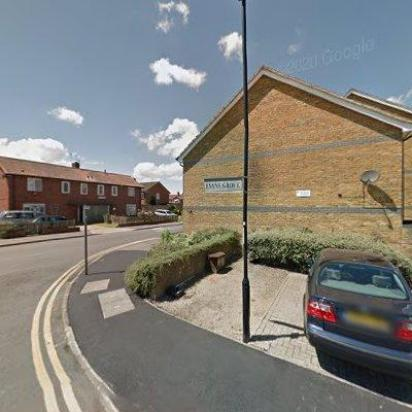stationary-car-offstreet: (302, 258, 410, 408), (0, 209, 44, 236), (28, 210, 68, 226), (154, 207, 176, 217)
